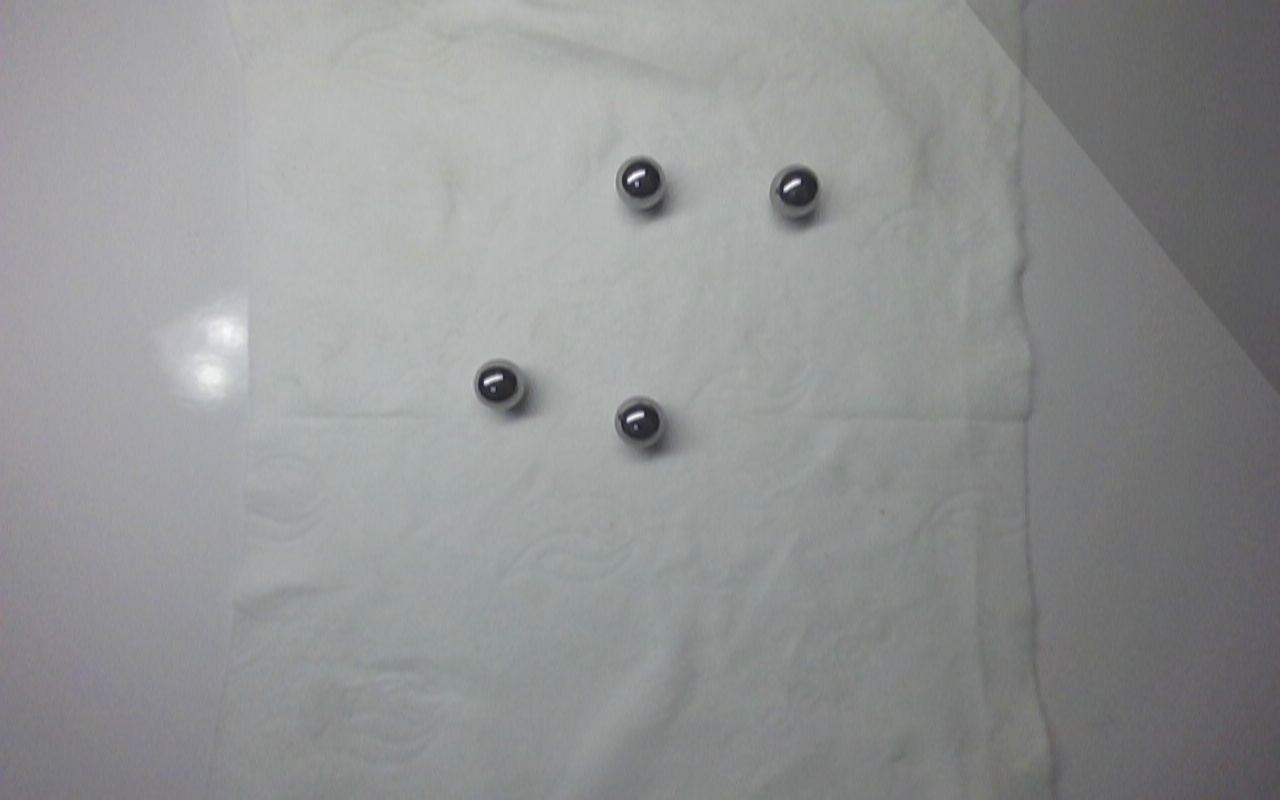ball: (466, 354, 535, 423), (765, 161, 826, 223), (612, 391, 668, 455), (613, 151, 665, 214)
